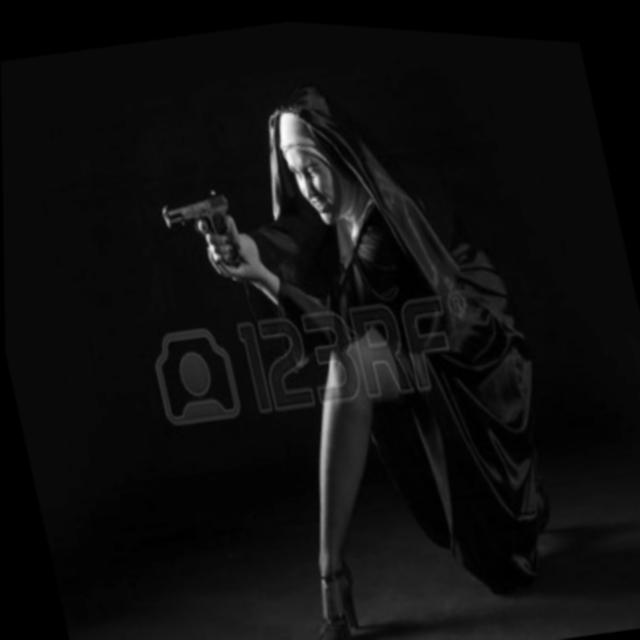weapon: (154, 178, 242, 277)
